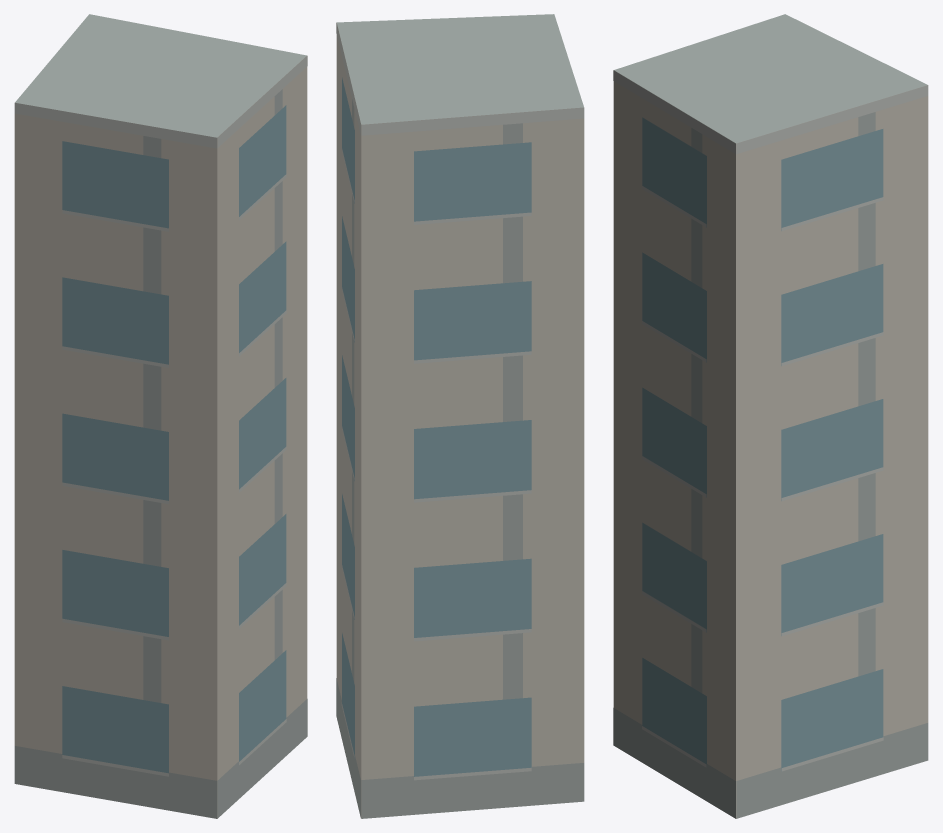
File: survey-upis-32618433.glb
3 renders of one model, left to right at view 1: azimuth 30°, elevation 25°; view 2: azimuth 150°, elevation 25°; view 3: azimuth 270°, elevation 25°, orthographic. The views are drawn at different scales.
Parts seen in each view (by area): view 1: survey-upis-32618433.tmp; view 2: survey-upis-32618433.tmp; view 3: survey-upis-32618433.tmp.
Boxes of the visible parts, x1,y1,x2,y2 form: survey-upis-32618433.tmp: (14,14,307,818); survey-upis-32618433.tmp: (336,14,584,818); survey-upis-32618433.tmp: (613,14,928,818).
Bounding box in the file's own units: 6.28 × 15.25 × 6.45.
